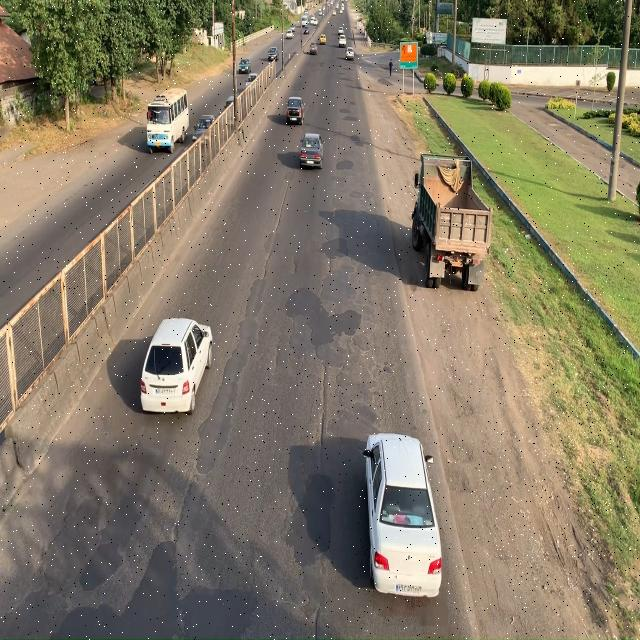Bus: (145, 89, 189, 154)
Truck: (411, 150, 494, 294)
cars: (364, 427, 444, 601), (141, 318, 213, 417), (298, 130, 323, 172)
